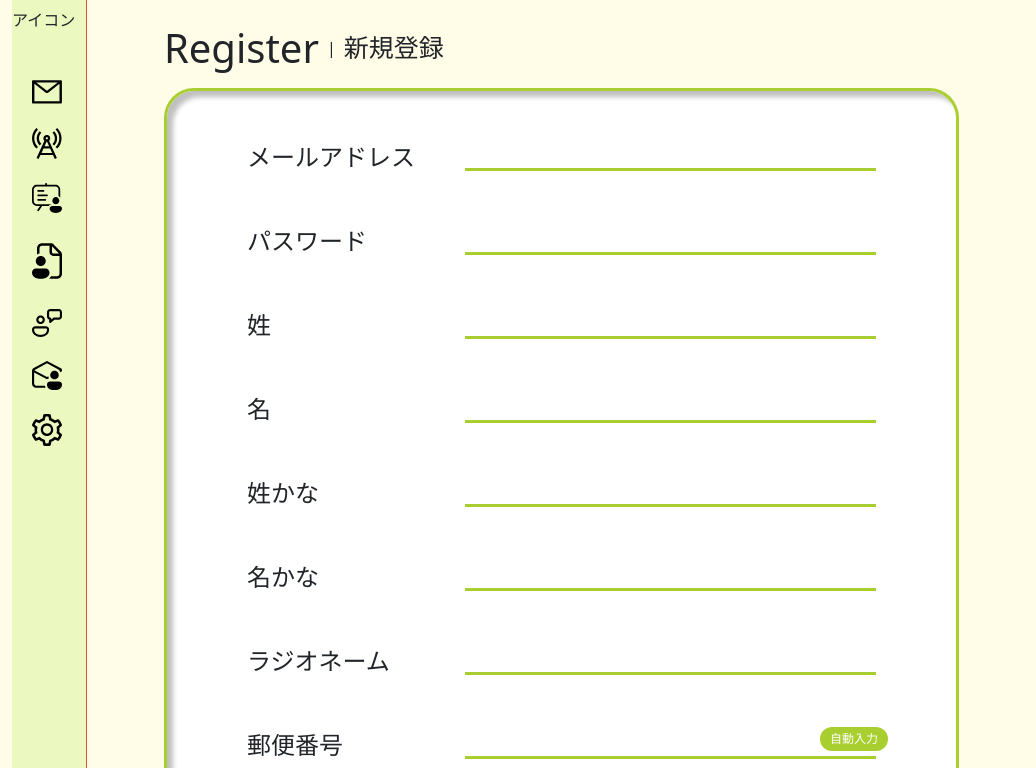
it: 新規登録 › 郵便番号で数値を入れないとバリデーションメッセージが表示される
In the field with test id "register-input-post-code": (670,745) [465,731,876,759], type "test"
(page scrolled)
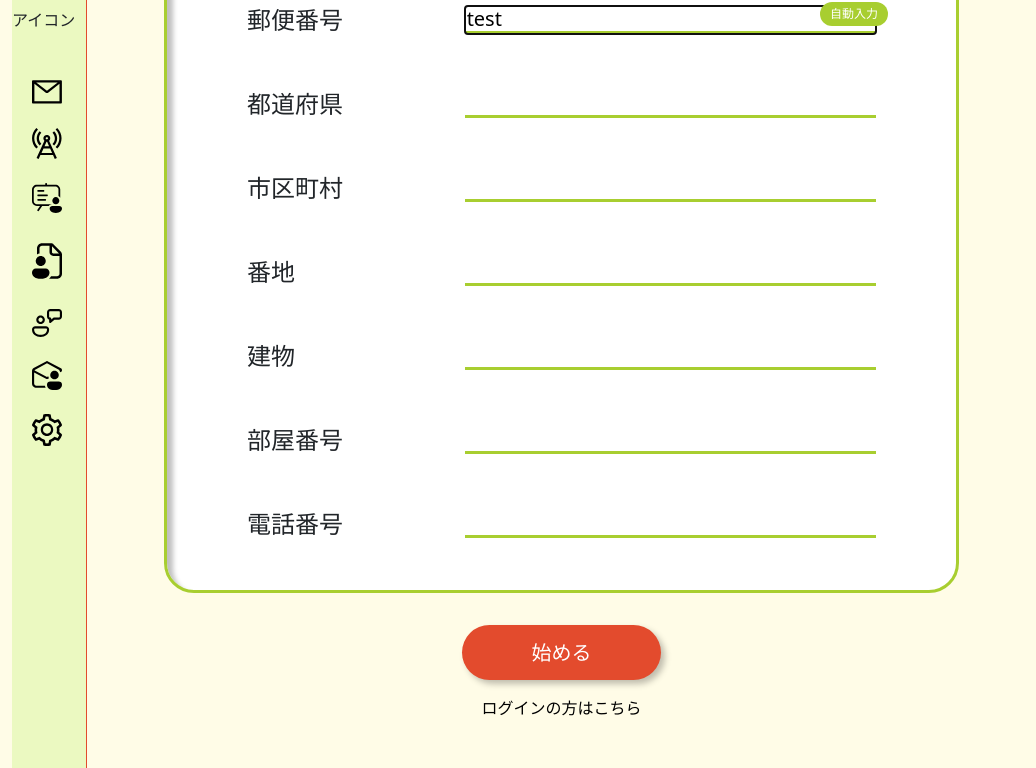
Click the button with test id "register-button": (562,652) [462,625,661,680]
(page scrolled)
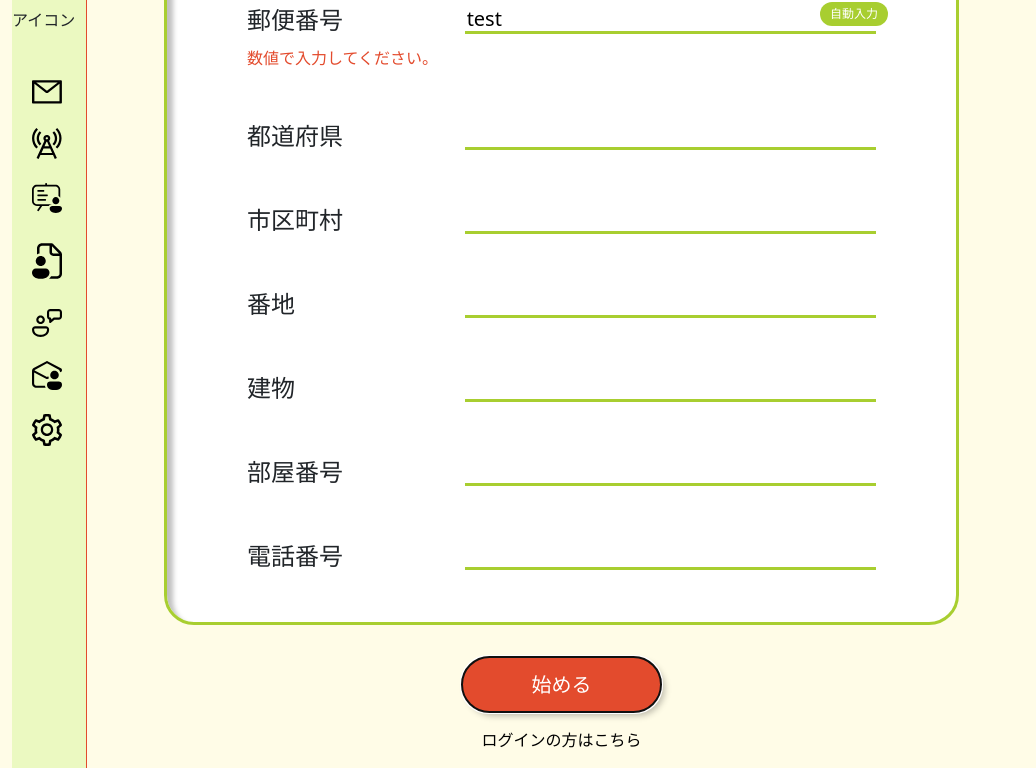
Now the text "数値で入力してください。" is shown, box [247,47,438,69]
